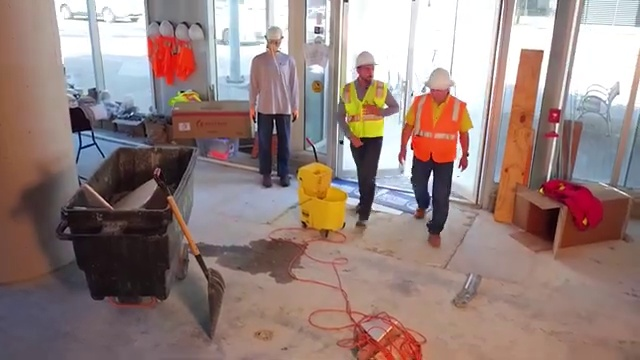helmet: (423, 61, 455, 89), (352, 46, 388, 67), (260, 26, 295, 47), (158, 21, 182, 34), (190, 22, 206, 41), (148, 19, 161, 37)
jacket: (413, 91, 465, 169), (336, 79, 393, 143)
